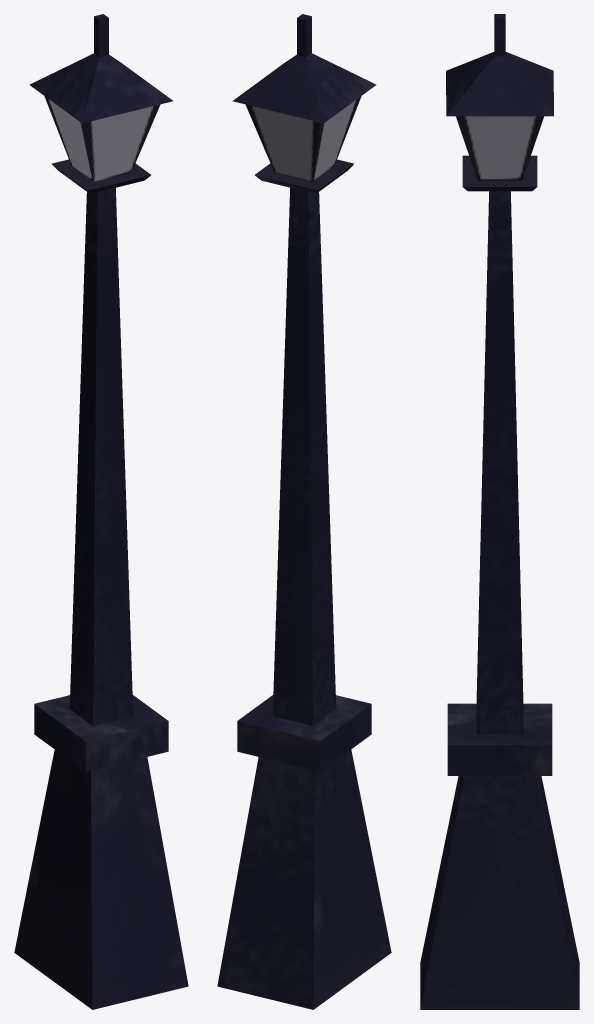
Rendered from PierAssets_OldPierLight.fbx.
3 views of the same model, side by side, from view 1: azimuth 30°, elevation 25°; view 2: azimuth 150°, elevation 25°; view 3: azimuth 270°, elevation 25° (orthographic).
Visible parts, largest first — view 1: OldPierLight; view 2: OldPierLight; view 3: OldPierLight.
Part boxes in pixels (box(x1,y1,x2,y2)): OldPierLight: box(14, 14, 188, 1009); OldPierLight: box(217, 14, 391, 1009); OldPierLight: box(420, 14, 579, 1009).
Size of the model in its own units: 79.96 by 757 by 113.
1 material, 1 textured.
